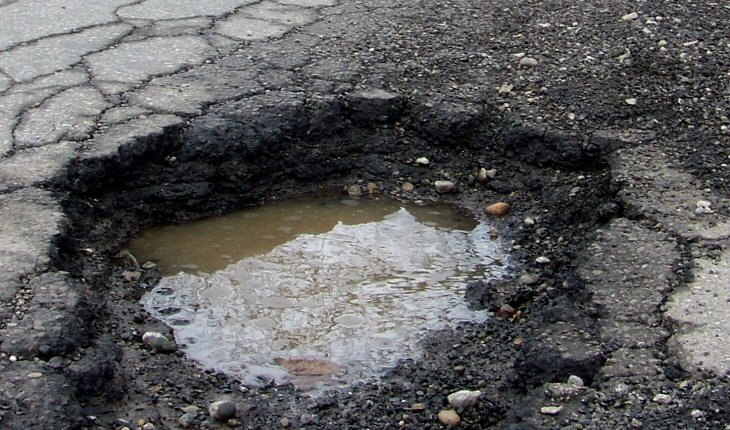pothole: (27, 103, 652, 412)
